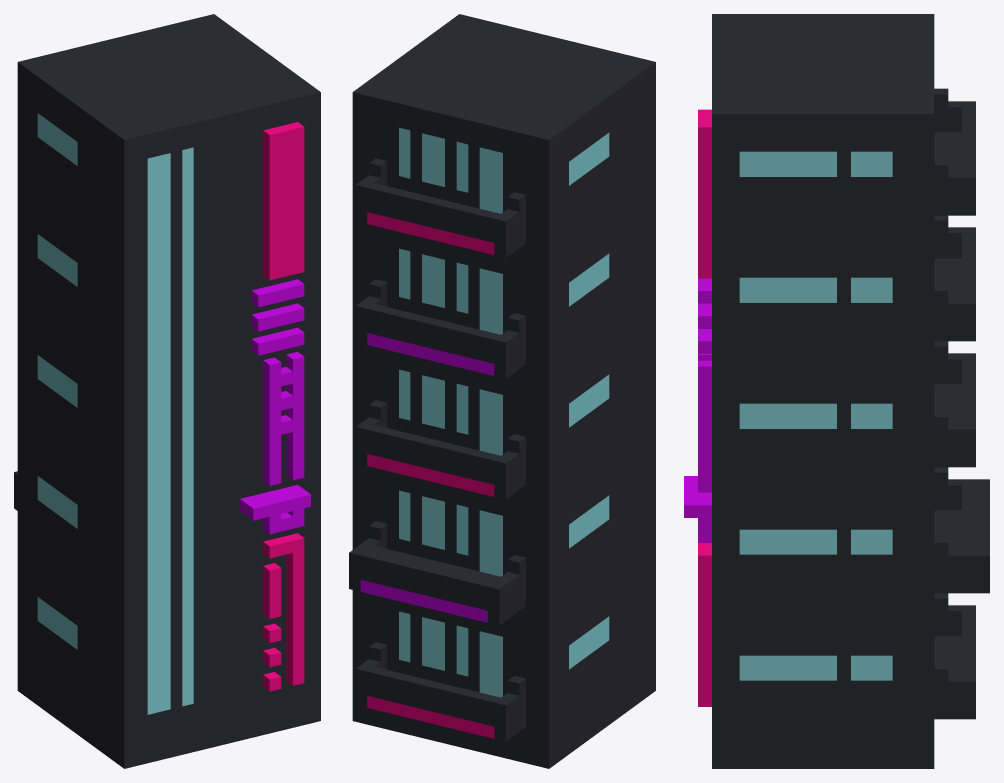
3 renders of one model, left to right at view 1: azimuth 30°, elevation 25°; view 2: azimuth 150°, elevation 25°; view 3: azimuth 270°, elevation 25°, orthographic. The views are drawn at different scales.
Visible parts, largest first — view 1: Cube.275; view 2: Cube.275; view 3: Cube.275.
Boxes of the visible parts, x1,y1,x2,y2 form: Cube.275: (14, 14, 320, 768); Cube.275: (349, 14, 655, 768); Cube.275: (684, 14, 989, 768).
Size of the model in its own units: 1700 by 5200 by 2200.
